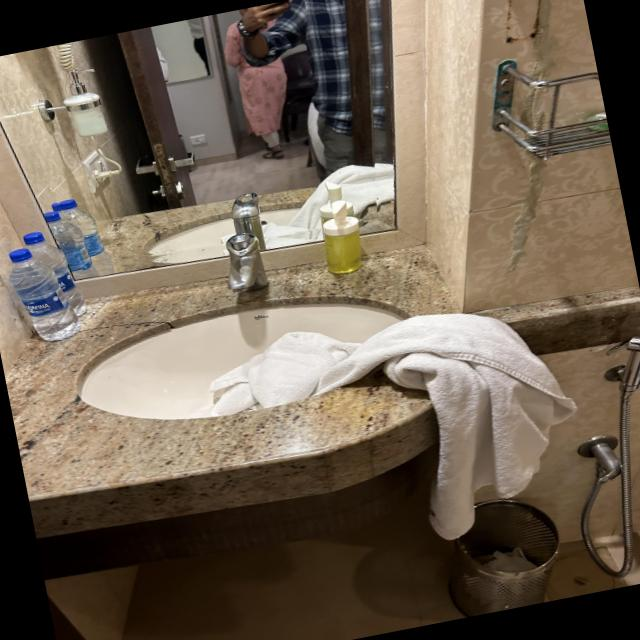mess: (8, 170, 590, 576)
